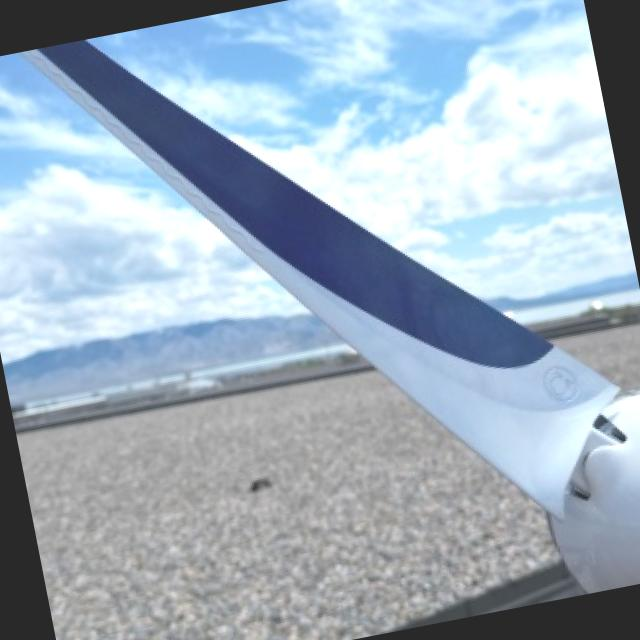healthy: (26, 40, 640, 591), (0, 62, 115, 175)
